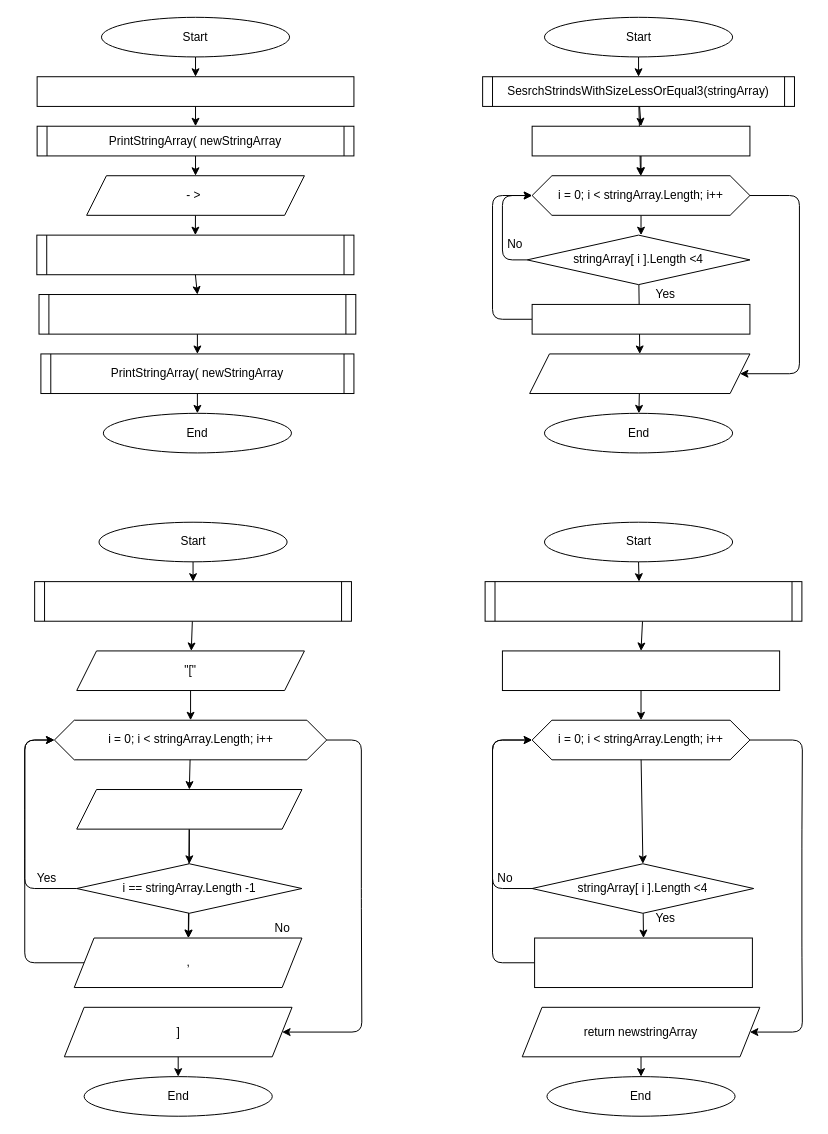
This 828x1134 diagram has some shape labels left out. Each missing label, with the box of its shape:
"stringArray[ i ]": (76, 789, 302, 829)
CreateArrayWithSizeLessOrEqual3 (stringArray, sizeNewArray): (484, 581, 802, 621)
newStringArray = CreateArrayWithSizeLessOrEqual3 (stringArray, sizeNewArray): (38, 294, 356, 334)
newstringArray [ j ] = stringArray[ i ] j++: (534, 937, 752, 988)
numberOfStrings = 0;: (531, 125, 750, 156)
numberOfStrings++: (531, 303, 750, 334)
PrintStringArray( stringArray ): (34, 581, 351, 621)
return namberOfStrings++: (529, 353, 750, 394)
sizeNewArray = SesrchStrindsWithSizeLessOrEqual3(stringArray): (36, 234, 354, 275)
string[] newstringArray = new string [ sizeNewArray ] j = 0: (501, 650, 780, 691)
stringArray = [ "hello" , "2" , "world" , " : - ) " ]: (36, 76, 354, 106)
